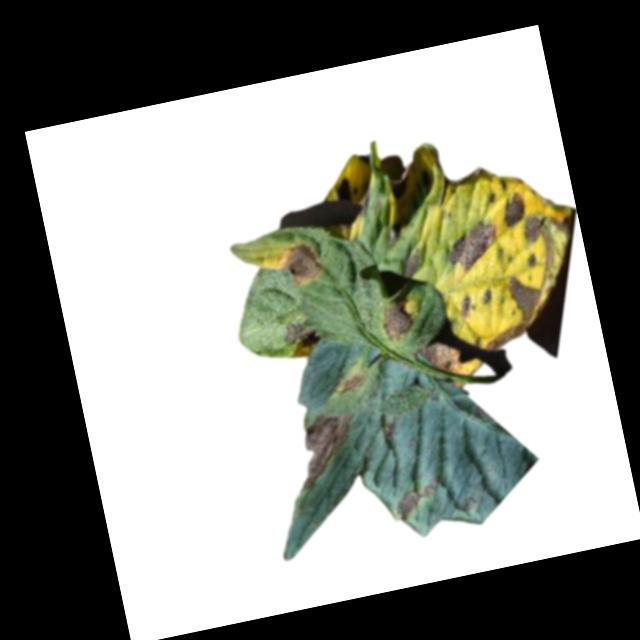Early_blight: (288, 408, 369, 492), (473, 271, 551, 351), (438, 217, 505, 279), (393, 476, 447, 524), (521, 212, 563, 272), (276, 241, 323, 290), (415, 337, 463, 383), (376, 294, 417, 346), (498, 192, 528, 231), (284, 320, 321, 351), (398, 251, 424, 281), (335, 372, 365, 396), (454, 290, 476, 322), (383, 422, 400, 443), (459, 496, 478, 512), (524, 251, 539, 268)
